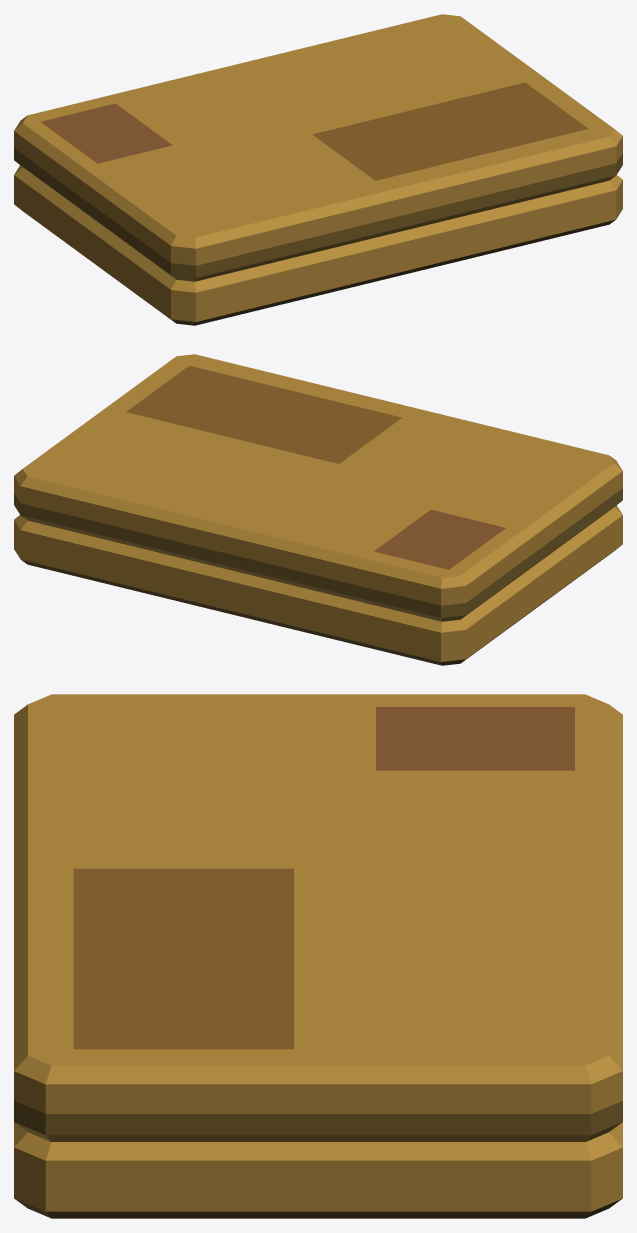
File: item_mealsurvival_b.obj
3 views of the same model, one above another, from view 1: azimuth 30°, elevation 25°; view 2: azimuth 150°, elevation 25°; view 3: azimuth 270°, elevation 25° (orthographic). The views are drawn at different scales.
Bounding box in the file's own units: 0.8668 × 0.1613 × 0.5824.
